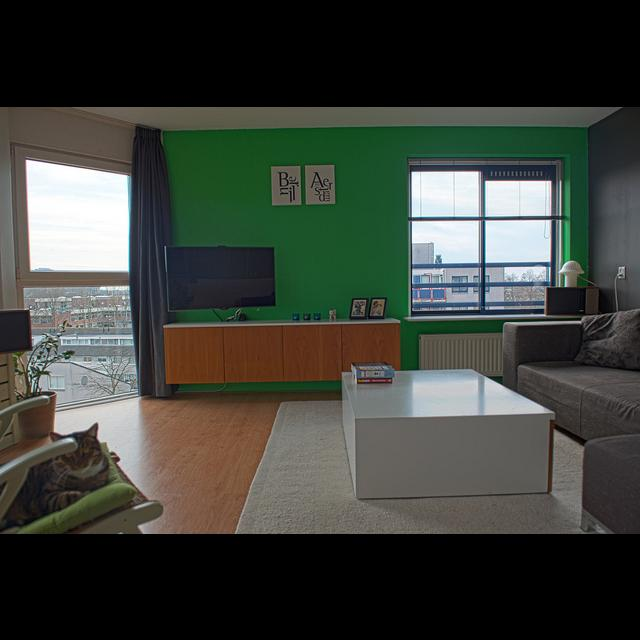Flat-Panel-TV: (164, 245, 276, 311)
